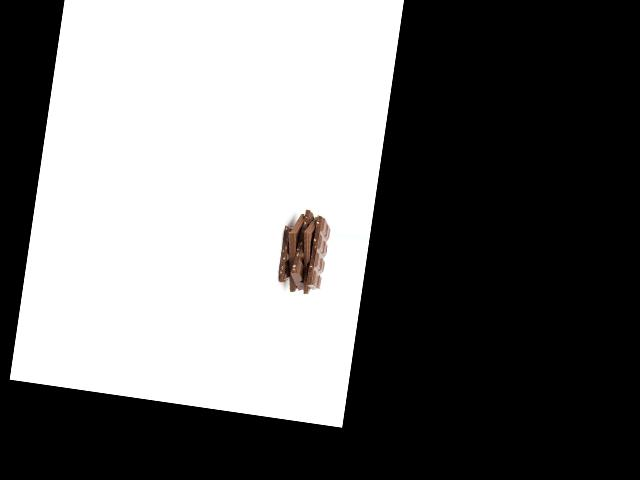chocolate: (271, 211, 313, 291)
